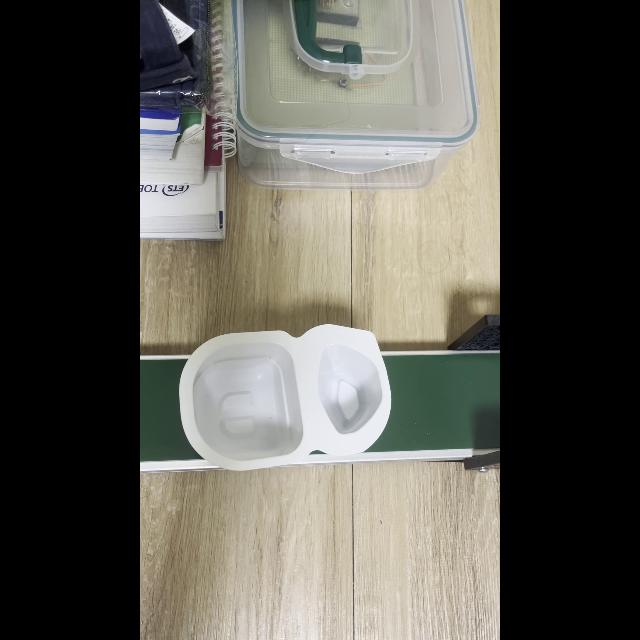clean: (181, 326, 391, 469)
